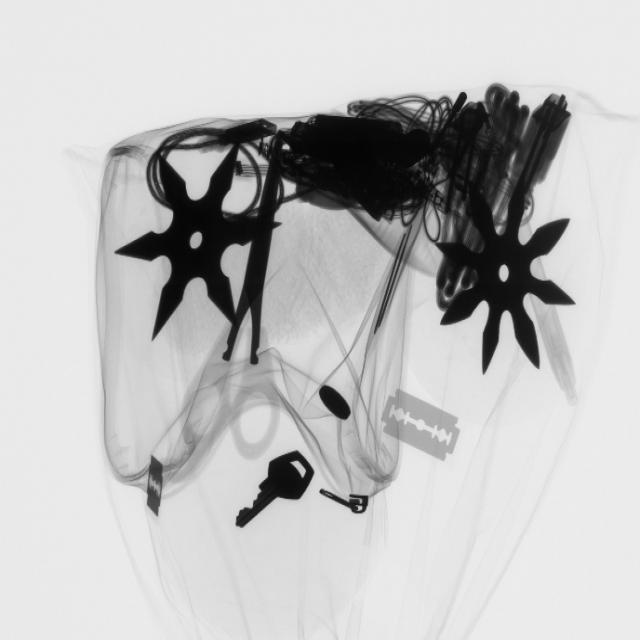BLADE: (378, 382, 463, 468), (135, 451, 172, 524)
SHURIKEN: (120, 142, 269, 354), (431, 177, 578, 378)
